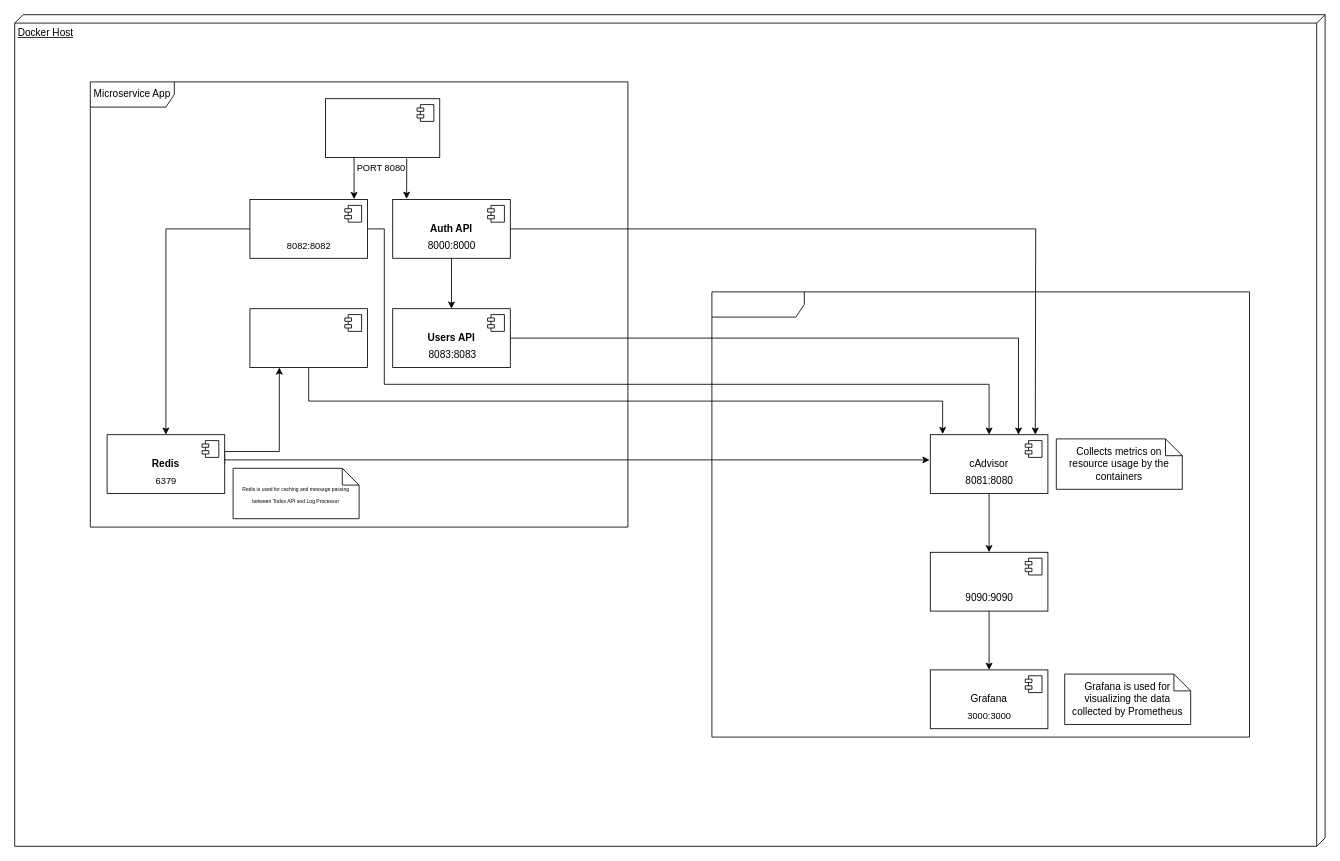
This 1340x861 diagram has some shape labels left out. The shapes that lost their labels are listed below. From the top down, each one's box as (x1, y1, x2, y2) in pixels, then its label:
(325, 98, 440, 158): Frontend
(249, 199, 368, 258): Todos API
(249, 308, 368, 368): Log Processor
(711, 291, 1250, 737): Monitoring Stack
(929, 551, 1048, 611): Prometheus
